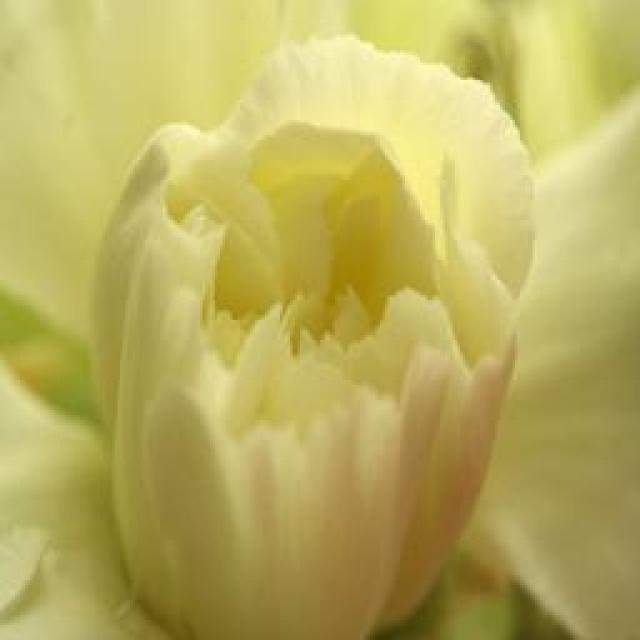carnation: (88, 50, 546, 640)
